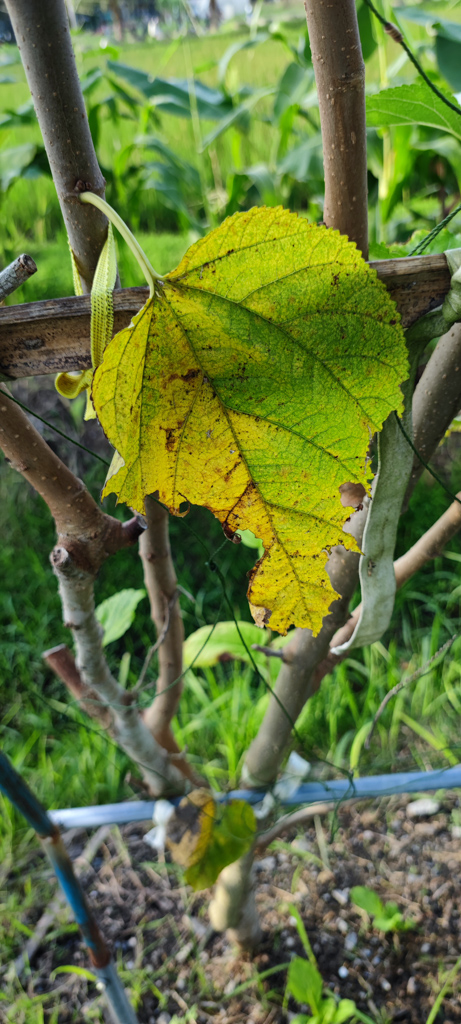Pepper yellow leaf: (86, 202, 414, 657)
